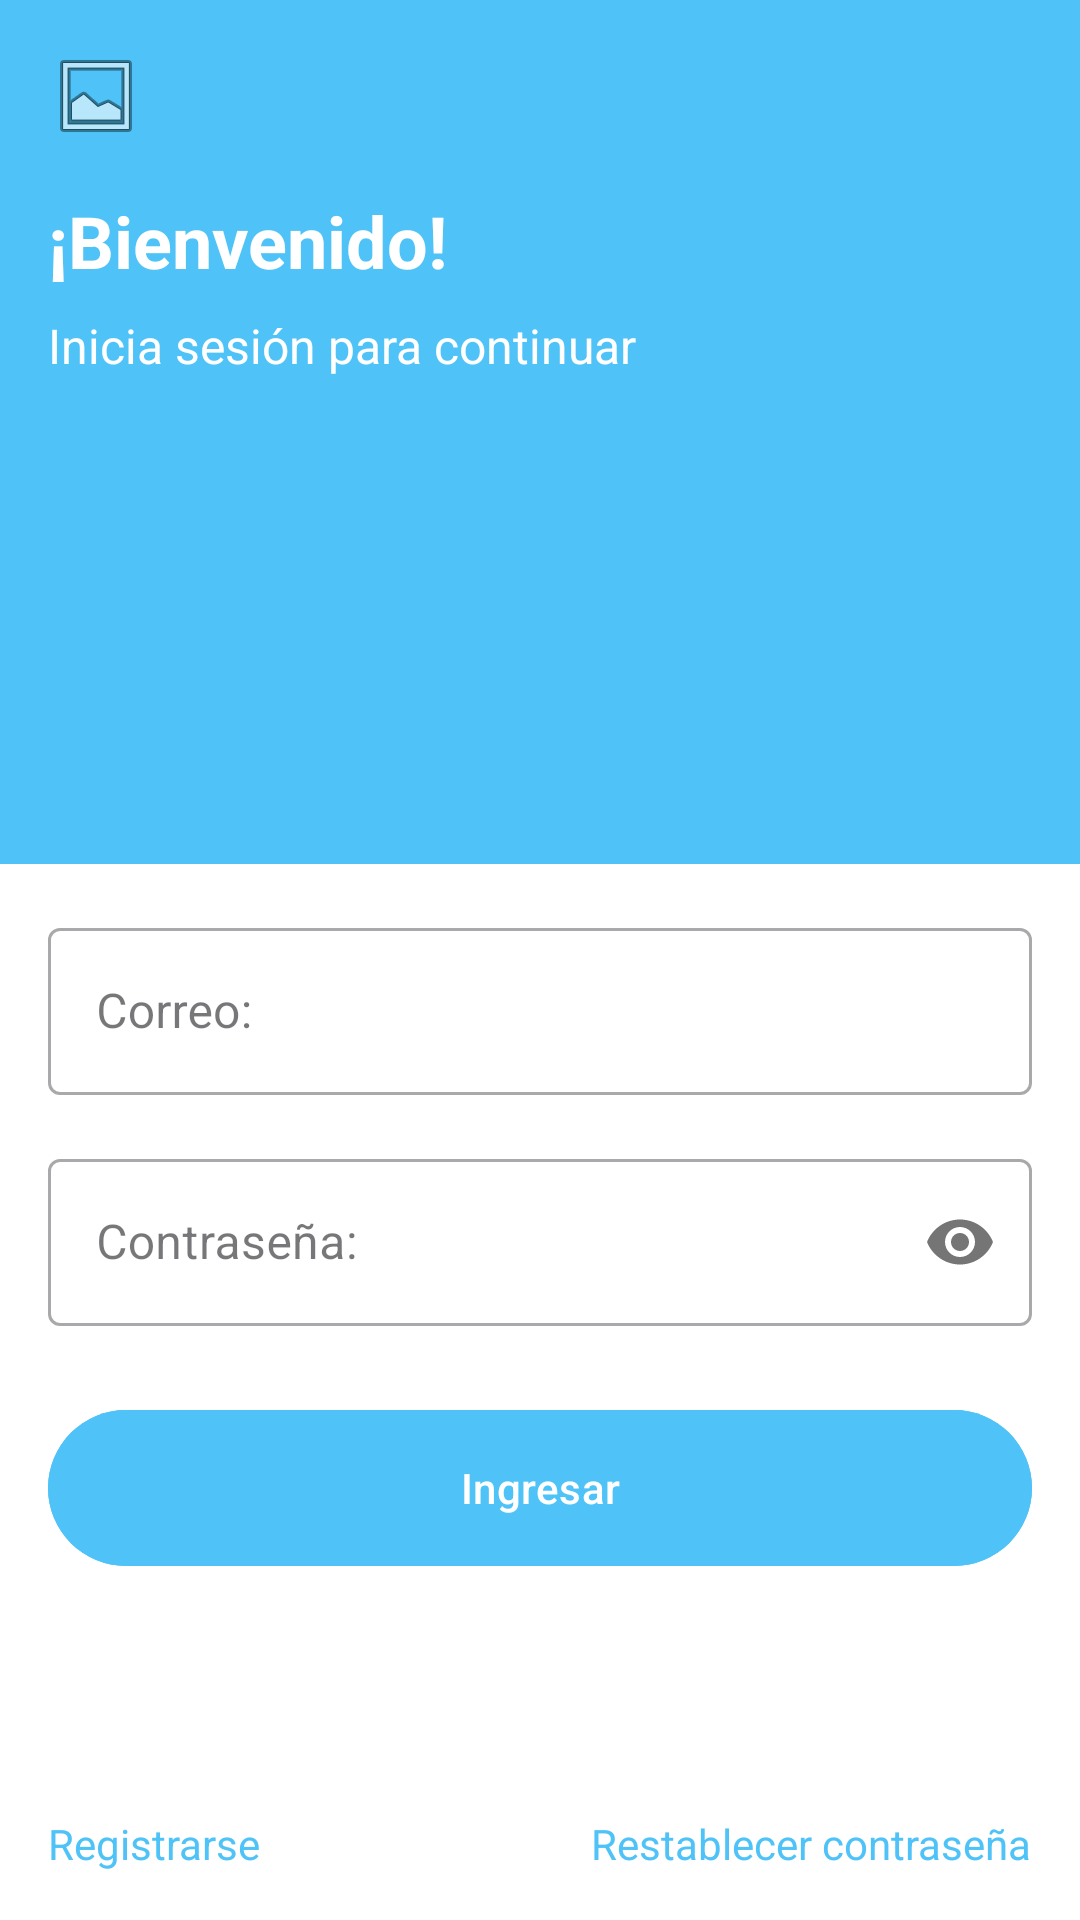

Point at icon controls on the screen. Image size 1080 x 1920, points as point (x, y).
gallery: point (96, 96)
